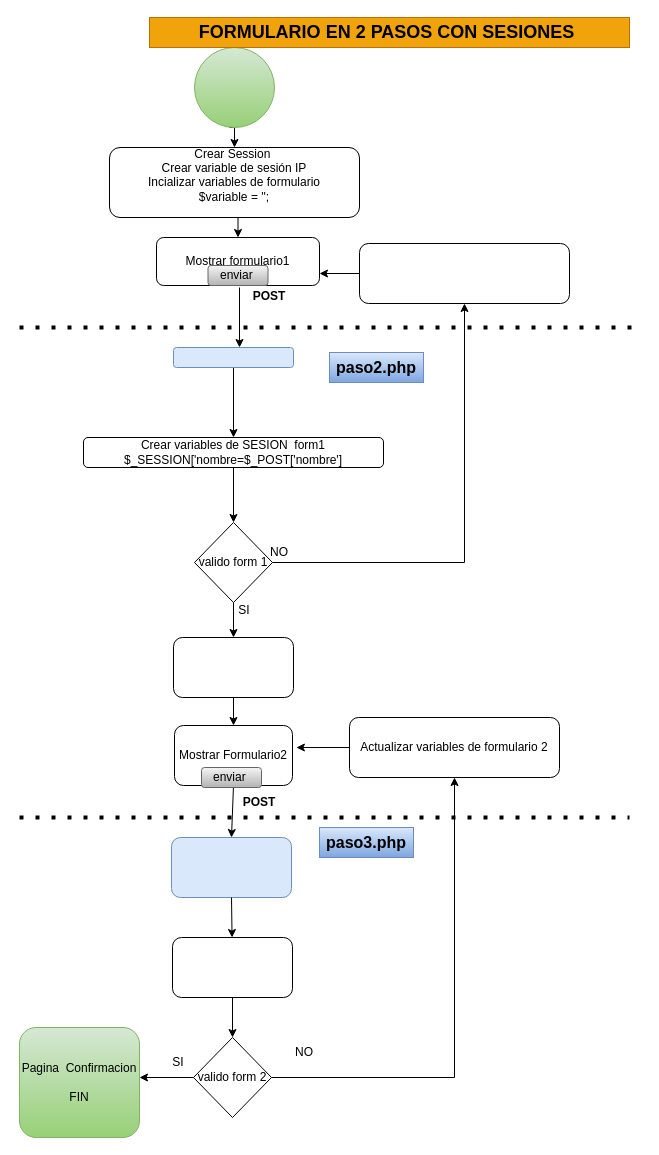
This 659x1155 diagram has some shape labels left out. The shapes that lost their labels are listed below. From the top down, each one's centre as x and y in pixels, then its label:
(234,87): Acceso a index.php (GET)
(464,273): Actualizar variables de formulario 1 $variable = $_SESSION['variable']
(233,357): Acceso a Paso 2
(233,667): Inicializar variables formulario 2 $localidad="";
(231,867): Acceso confirmacion
(232,967): Crear variables de SESION formu2
